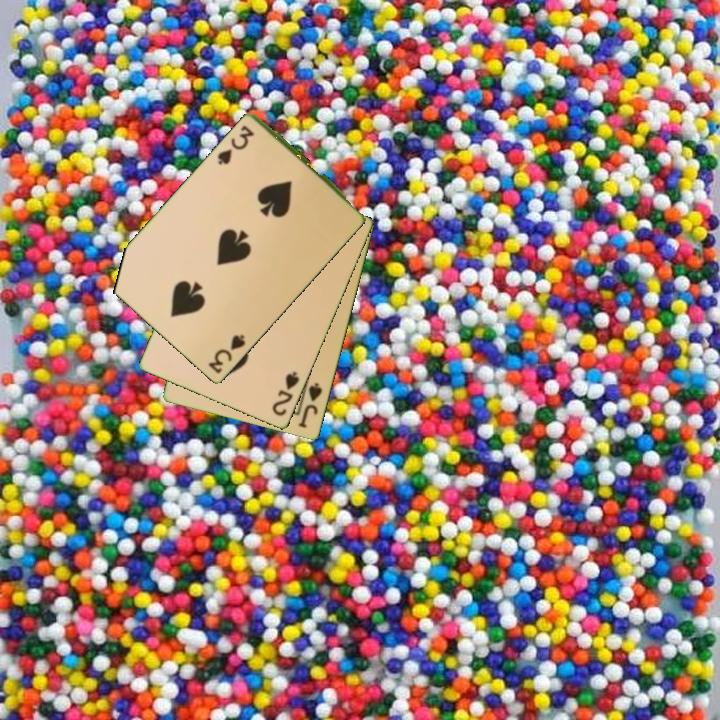2s: (269, 368, 303, 419)
3s: (205, 331, 249, 377), (214, 122, 257, 168)
Js: (295, 379, 325, 431)
